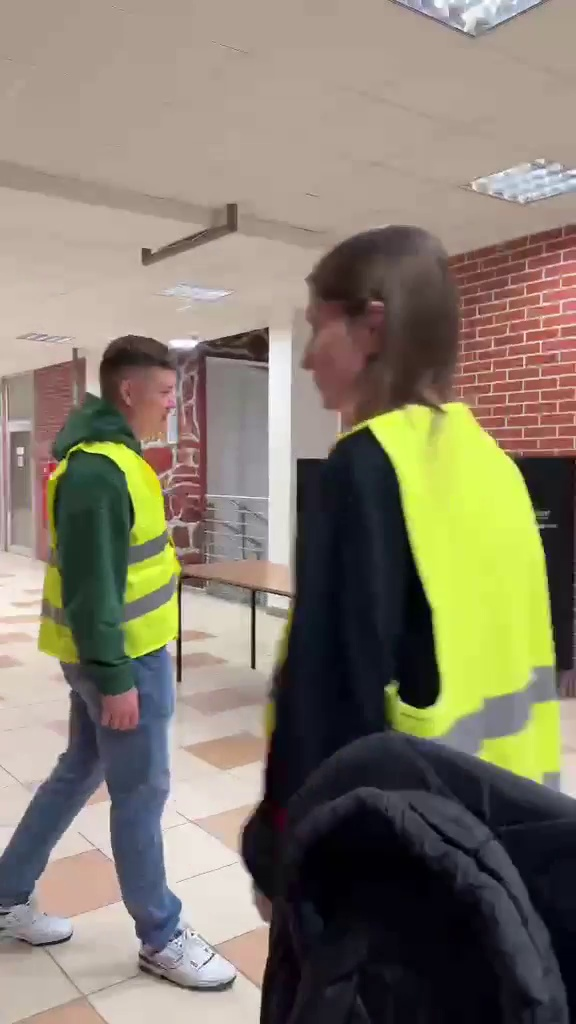vest: (283, 220, 565, 806), (27, 320, 239, 991)
